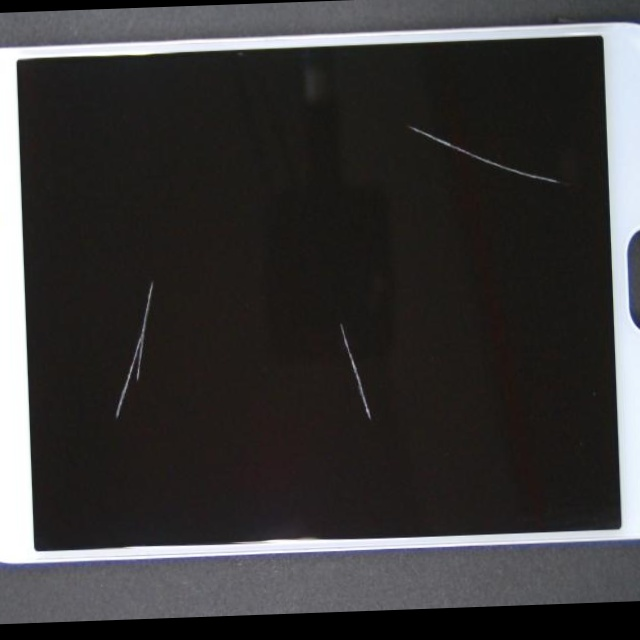scratch: (178, 257, 596, 609), (70, 154, 265, 426), (337, 122, 640, 244)
